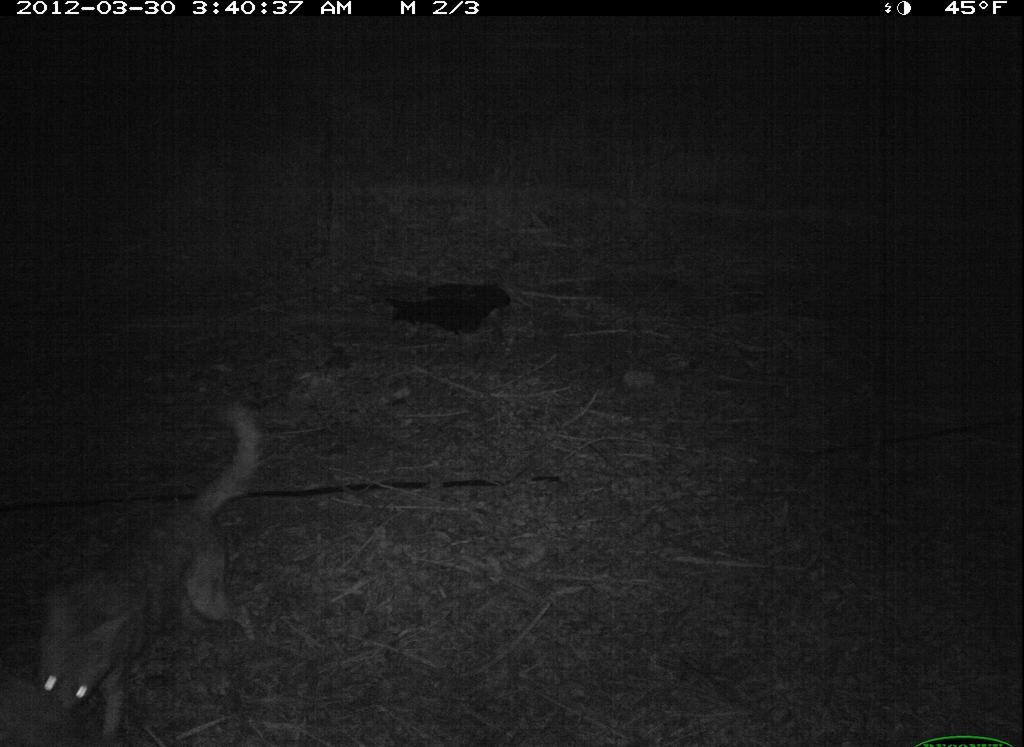coyote: (22, 399, 297, 742)
